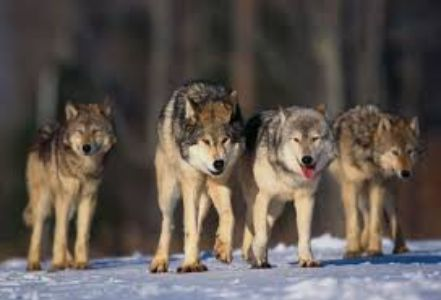wolf: (156, 80, 248, 276), (22, 95, 116, 274), (254, 104, 341, 272), (338, 102, 426, 264)
